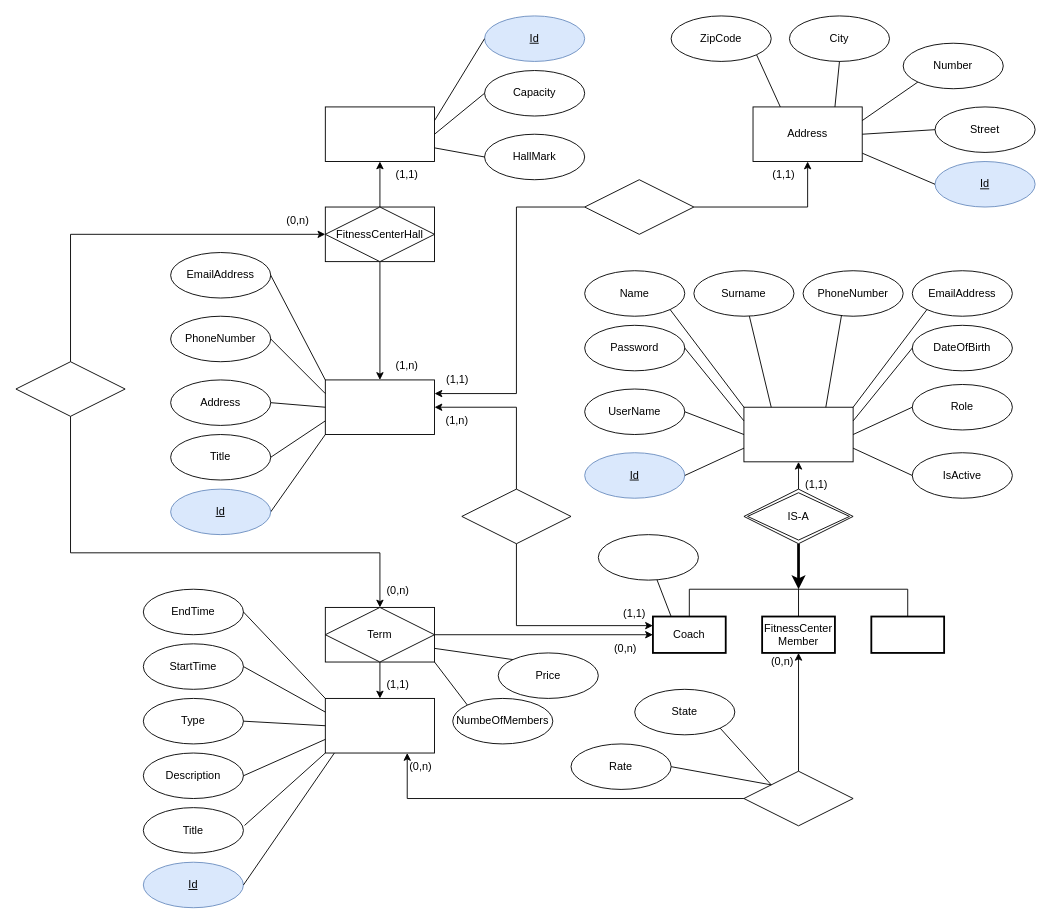
This 1051x924 diagram has some shape labels left out. The box of each missing label's shape, as (x1, y1, x2, y2) in pixels:
Administrator: (870, 615, 945, 653)
FitnessCenter: (324, 379, 435, 435)
FitnessMember Workout: (743, 770, 853, 826)
Hall: (324, 106, 435, 162)
Posses: (584, 179, 694, 234)
Rating: (597, 534, 698, 580)
Schedule: (15, 361, 125, 416)
User: (743, 406, 853, 462)
Workout: (324, 698, 435, 753)
Works: (461, 488, 571, 544)
